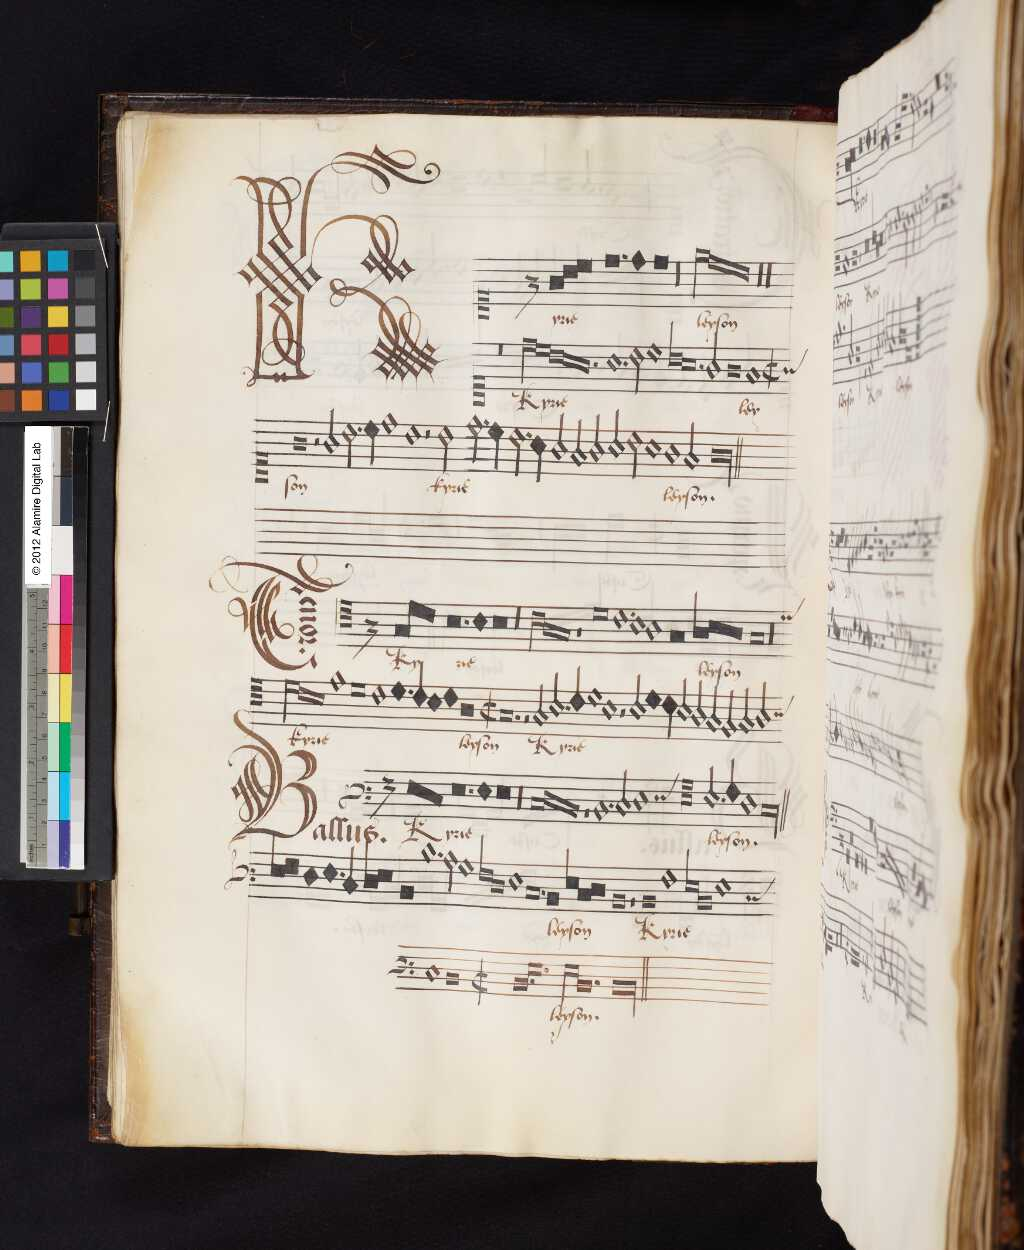breve_8: (524, 884, 544, 907)
breve_9: (640, 892, 664, 914), (609, 894, 626, 913)
colored breve_9: (396, 878, 419, 906), (549, 894, 562, 911)
colored semibreve_6: (319, 853, 339, 889)
colored semibreve_7: (299, 858, 320, 894)
custos_8: (735, 859, 786, 923)
f clef_7: (223, 857, 262, 890)
l1colored semibreve_6: (266, 830, 285, 884), (561, 843, 581, 890)
l1colored semibreve_7: (361, 840, 375, 897)
l1semibreve_5: (475, 830, 492, 892)
l1semibreve_6: (683, 845, 700, 895)
l2colored semibreve_5: (282, 853, 299, 880)
l2colored semibreve_6: (376, 863, 393, 890)
l2colored semibreve_7: (592, 879, 609, 901)
l2colored semibreve_8: (576, 887, 595, 908)
l2semibreve_7: (489, 872, 506, 897)
l2semibreve_9: (695, 889, 719, 913)
minim_3: (432, 844, 446, 862)
point: (537, 884, 553, 899)
semibreve rest: (629, 863, 637, 915)
semibreve_2: (417, 833, 438, 870)
semibreve_3: (442, 842, 459, 896)
semibreve_4: (458, 852, 475, 882)
semibreve_5: (658, 867, 680, 891)
semibreve_6: (715, 868, 737, 898), (505, 867, 528, 897)
semiminim_8: (344, 842, 361, 896), (334, 862, 347, 884)
